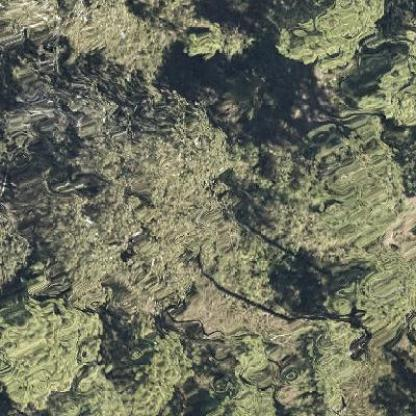tree-top: (0, 298, 106, 404), (270, 3, 385, 72)
